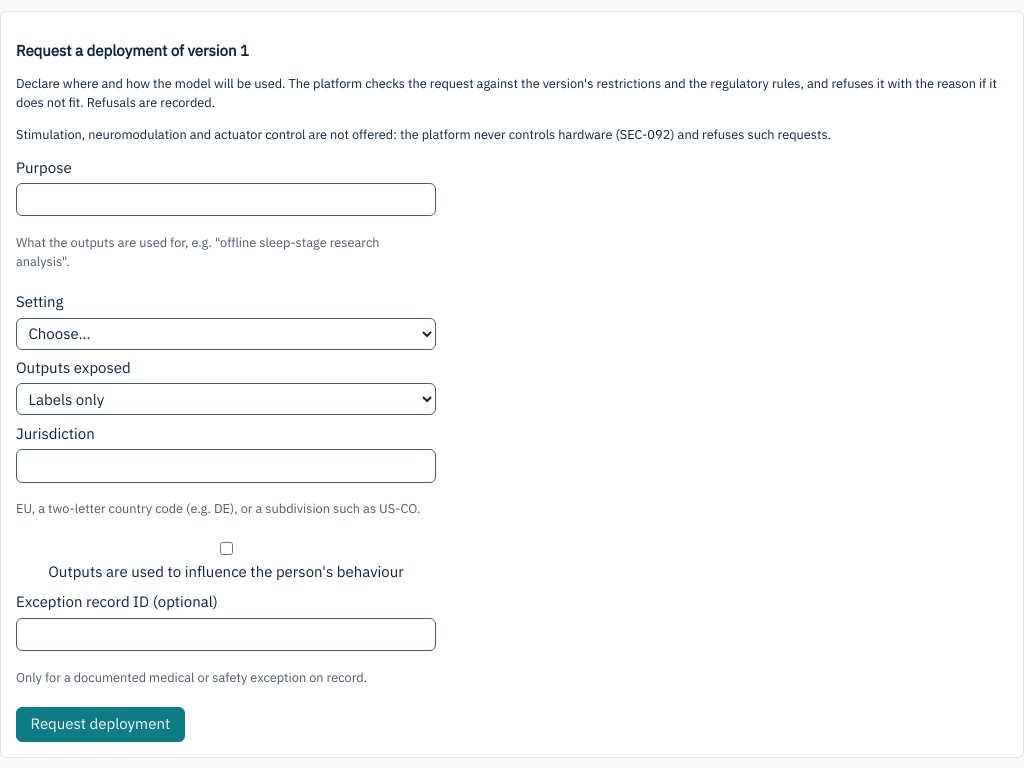
Test case: deployment requests › a hidden action forced anyway gets the server 403, not a refusal
Type "research" into the field labelled "Purpose".
click(226, 200); type("research")  # box [16,183,436,216]
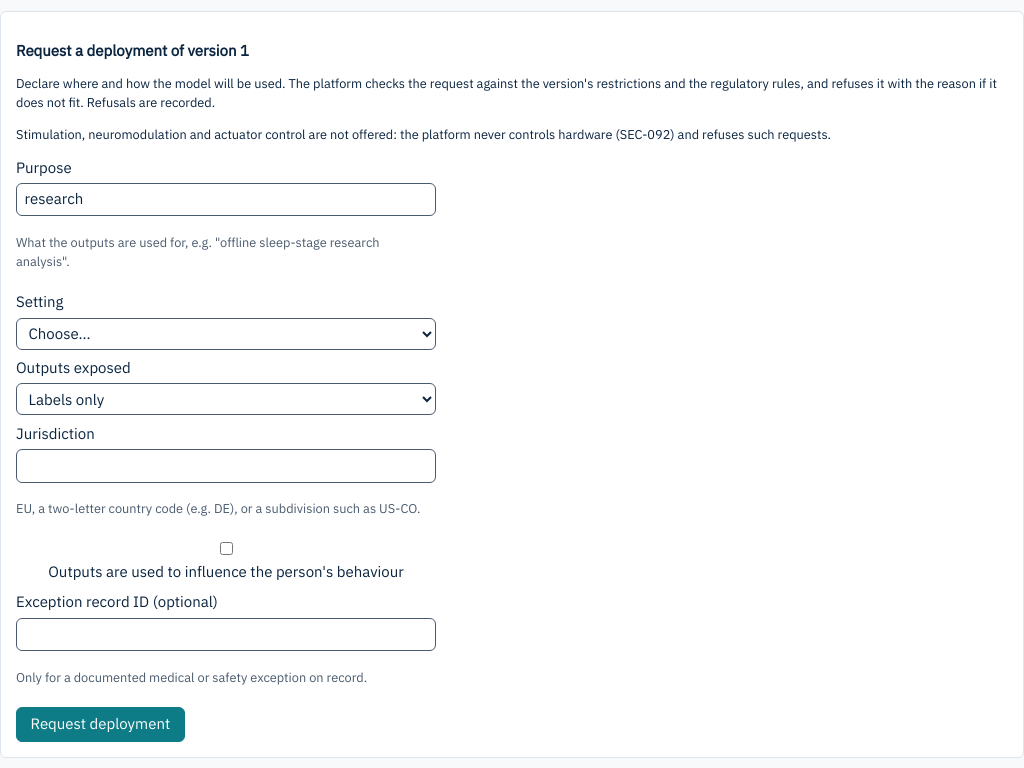
Select "Research" in the dropdown labelled "Setting" at (226, 334), box [16,318,436,350]
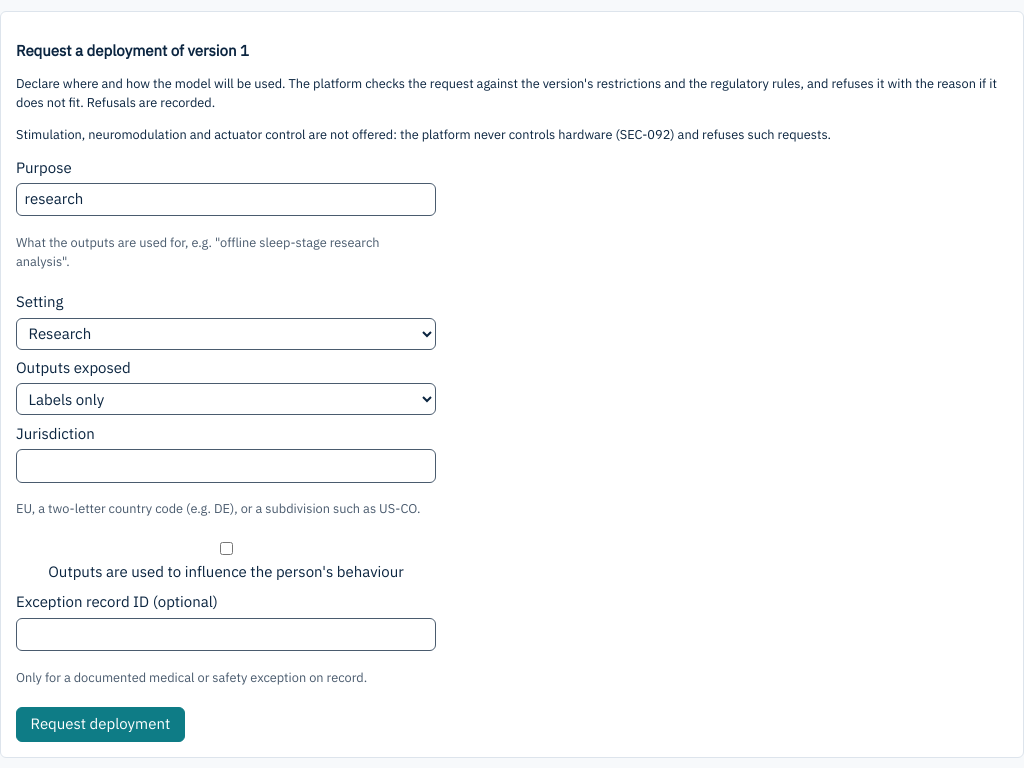
Type "EU" into the field labelled "Jurisdiction".
click(226, 466); type("EU")  # box [16,449,436,483]
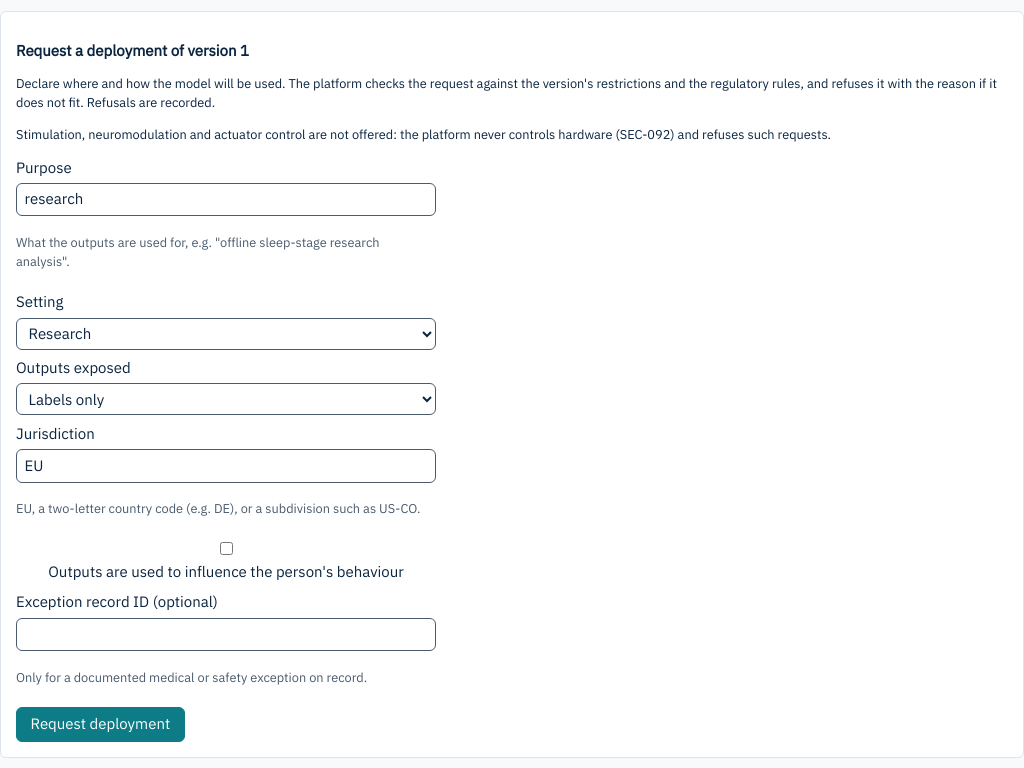
Submit the form named "Request deployment"
(page scrolled)
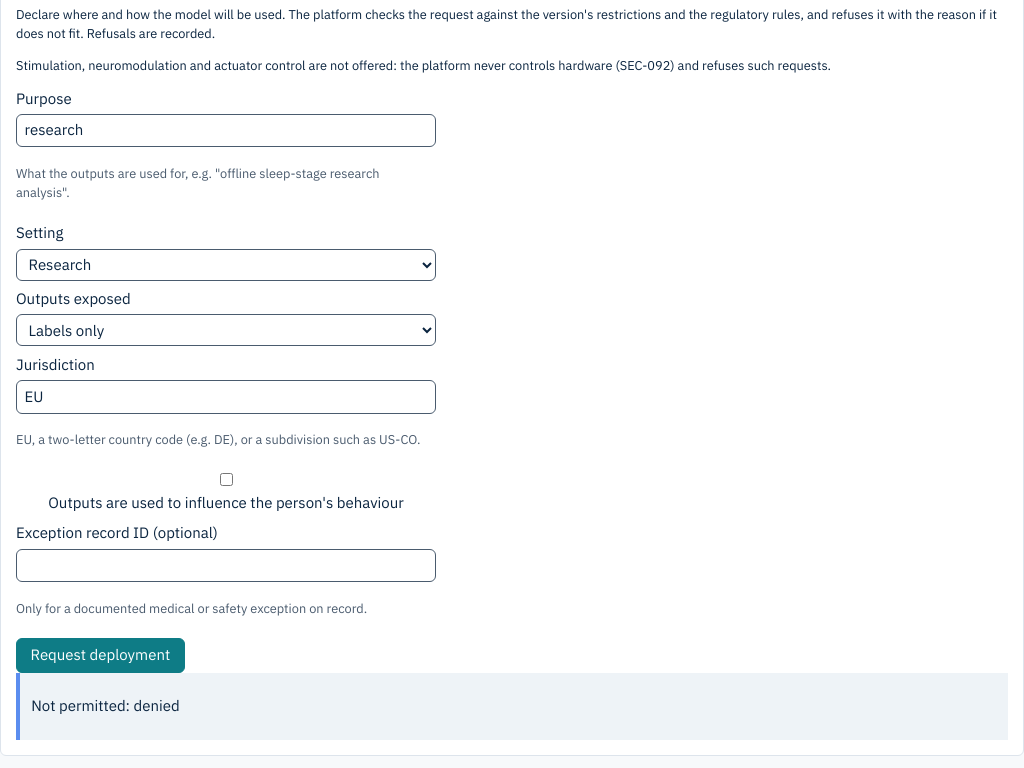
Check: the message shows "Not permitted", box [31,696,180,715]
